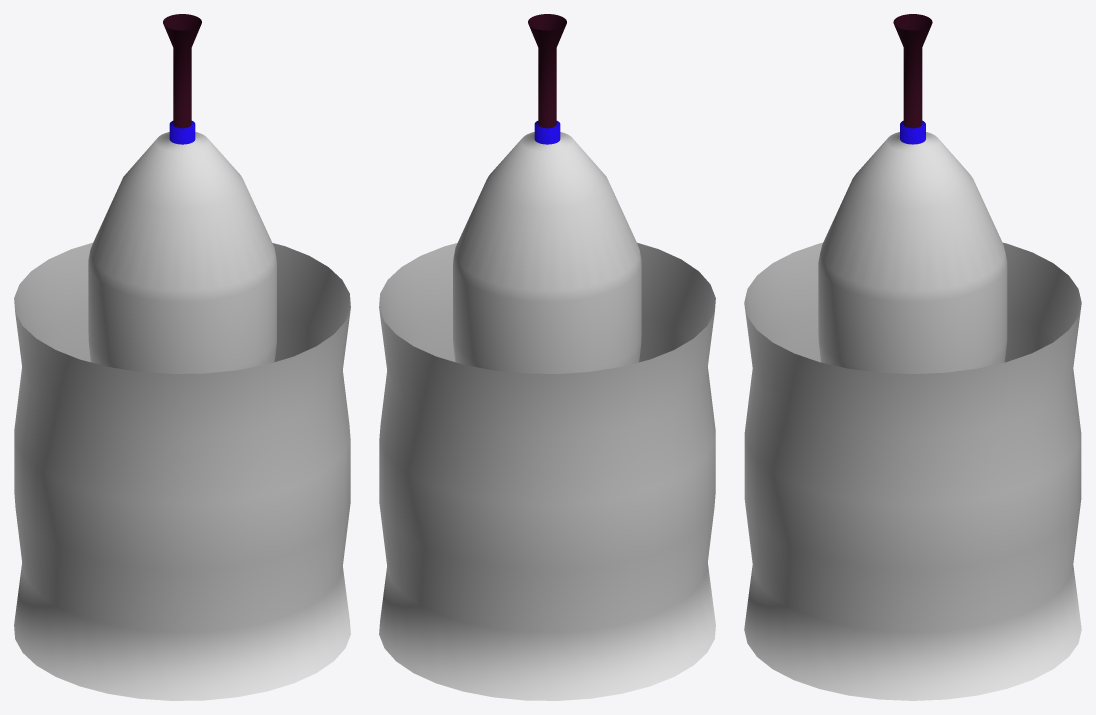
The model's file is wiadro.dae.
3 renders of one model, left to right at view 1: azimuth 30°, elevation 25°; view 2: azimuth 150°, elevation 25°; view 3: azimuth 270°, elevation 25°, orthographic.
Parts seen in each view (by area): view 1: Circle, Circle.002; view 2: Circle, Circle.002; view 3: Circle, Circle.002.
Part boxes in pixels (x1,y1,x2,y2): Circle: (14,242,350,700); Circle.002: (88,14,276,373); Circle: (379,242,715,700); Circle.002: (453,14,641,373); Circle: (744,242,1081,700); Circle.002: (818,14,1007,373).
Bounding box in the file's own units: 4.68 × 4.68 × 9.29.
